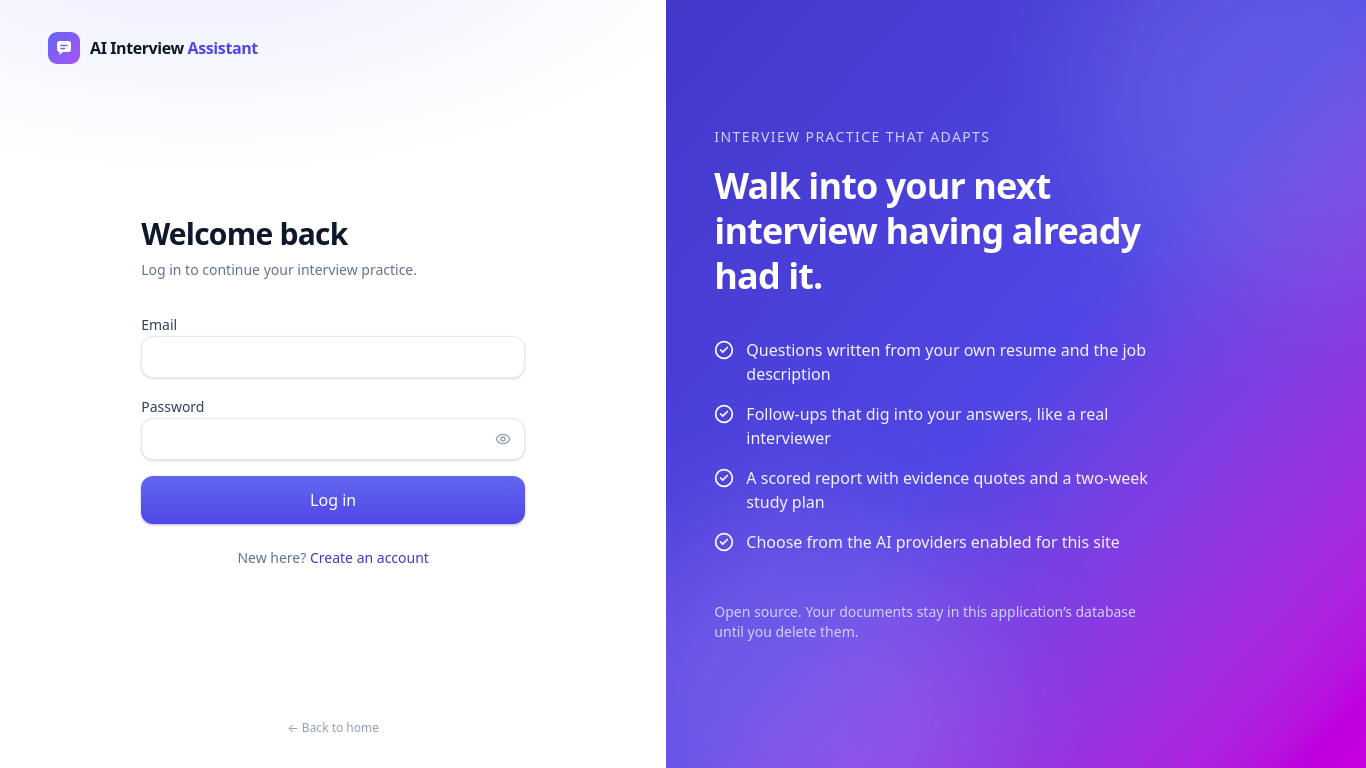
Scenario: login › shows the server error and stays on the page
In the field labelled "Email": (333, 357) 141,336 -> 525,378, type "ada@example.com"
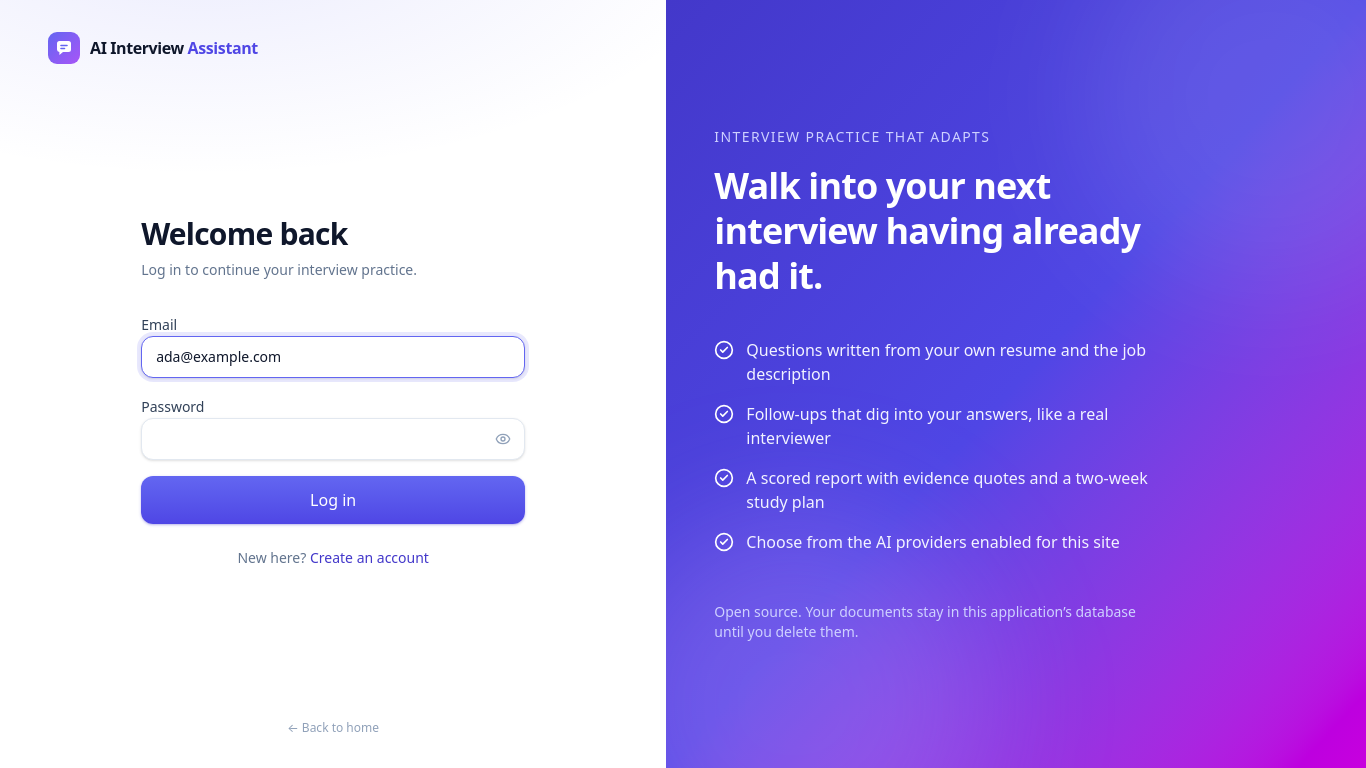
In the password field labelled "Password": (333, 439) 141,418 -> 525,460, type "wrong password"
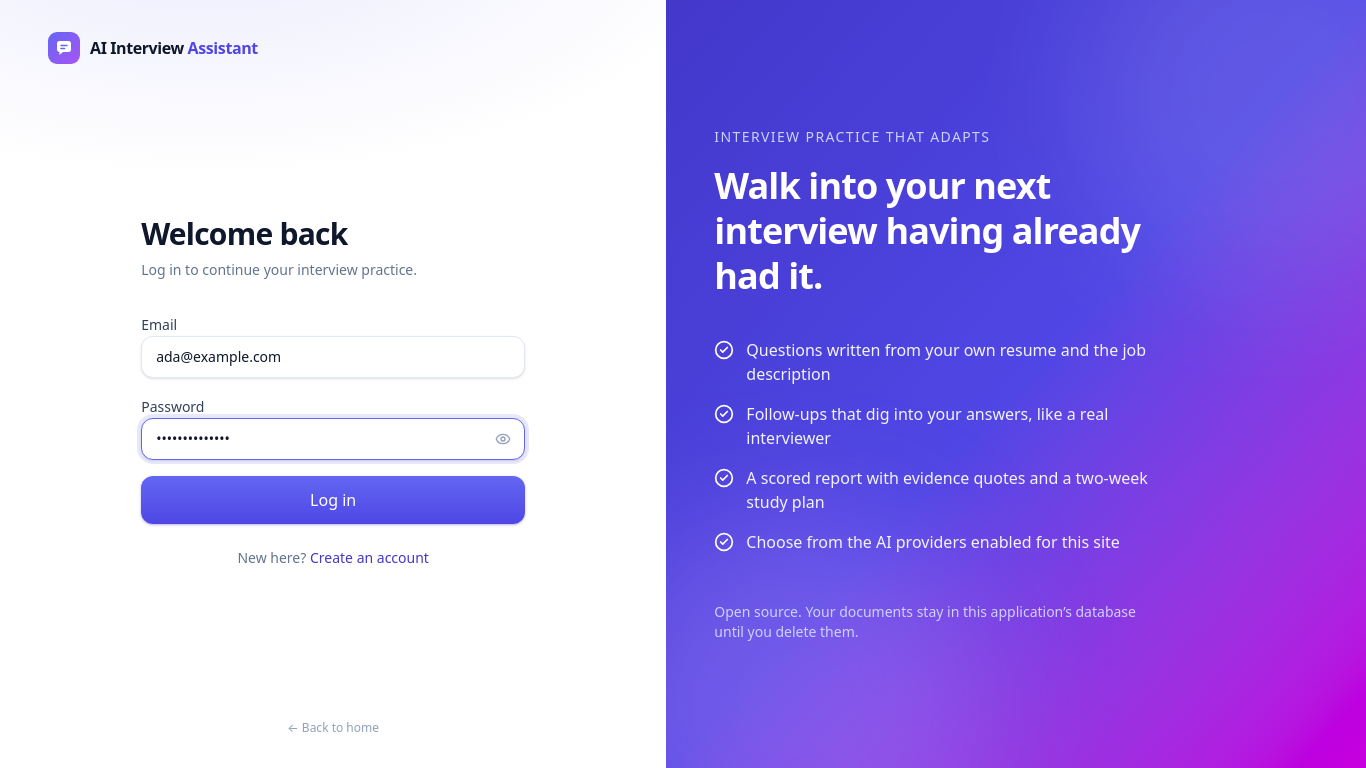
Click the button "Log in": (333, 500) 141,476 -> 525,524
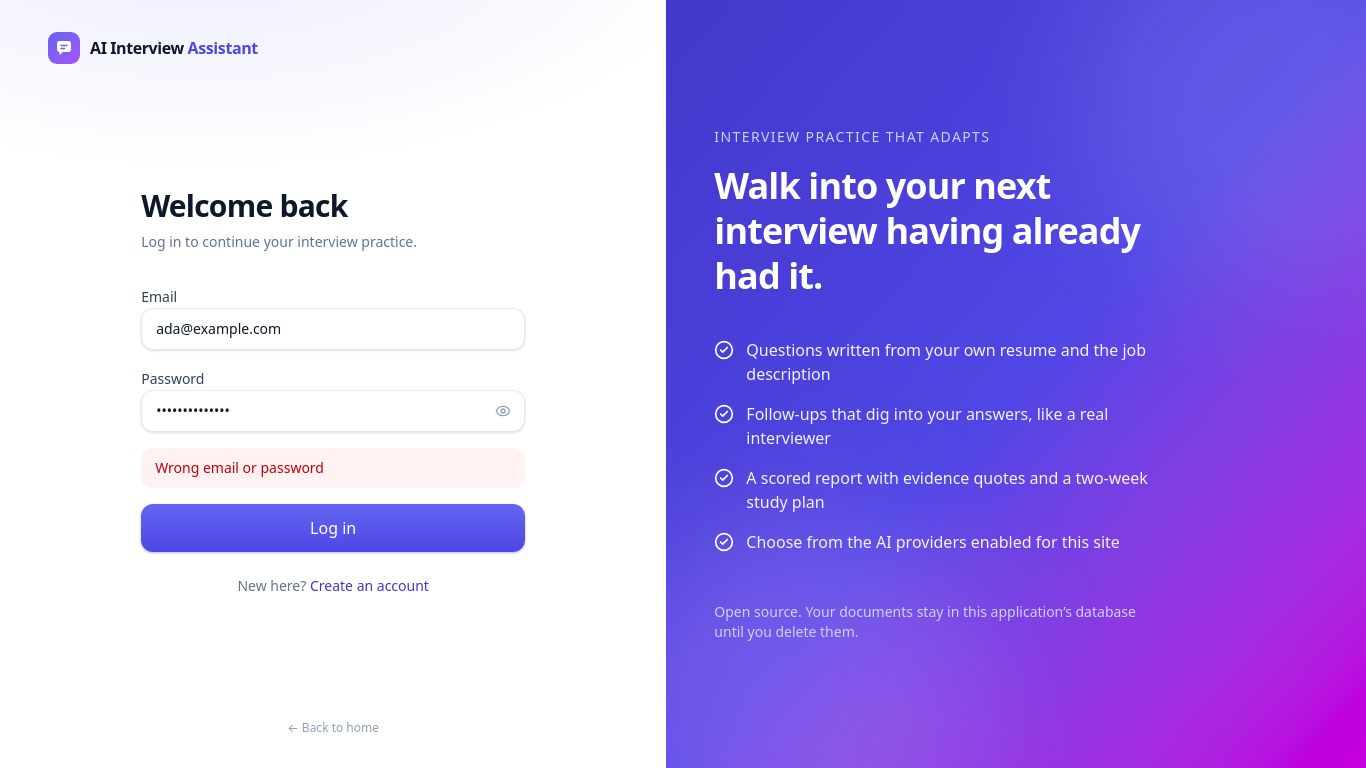
Now the message reads "Wrong email or password", box 155,458 -> 324,477
